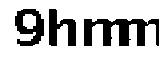9: (12, 5, 45, 48)
h: (47, 4, 78, 50)
m: (81, 13, 129, 51)
n: (133, 10, 160, 49)
